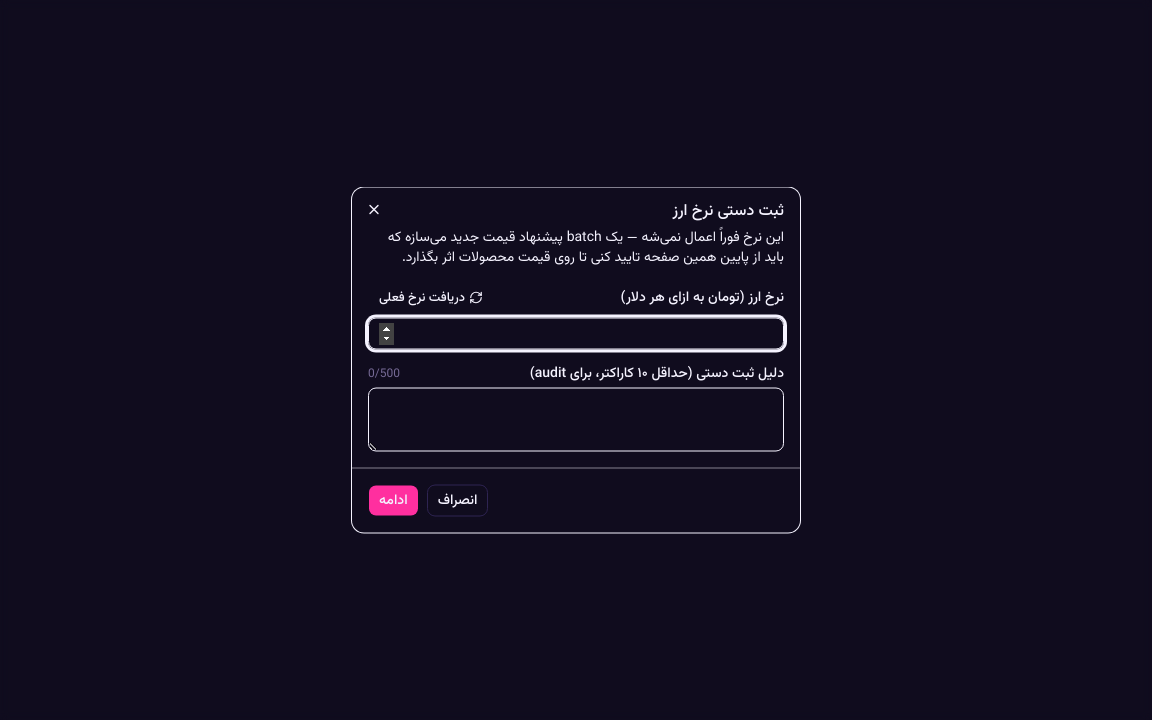
Test: ManualOverrideDialog › fetch current rate › fills rate field with current rate from API
This screenshot has width=1152, height=720.
Click the button "دریافت نرخ فعلی" at (431, 298), box [368, 284, 494, 312]
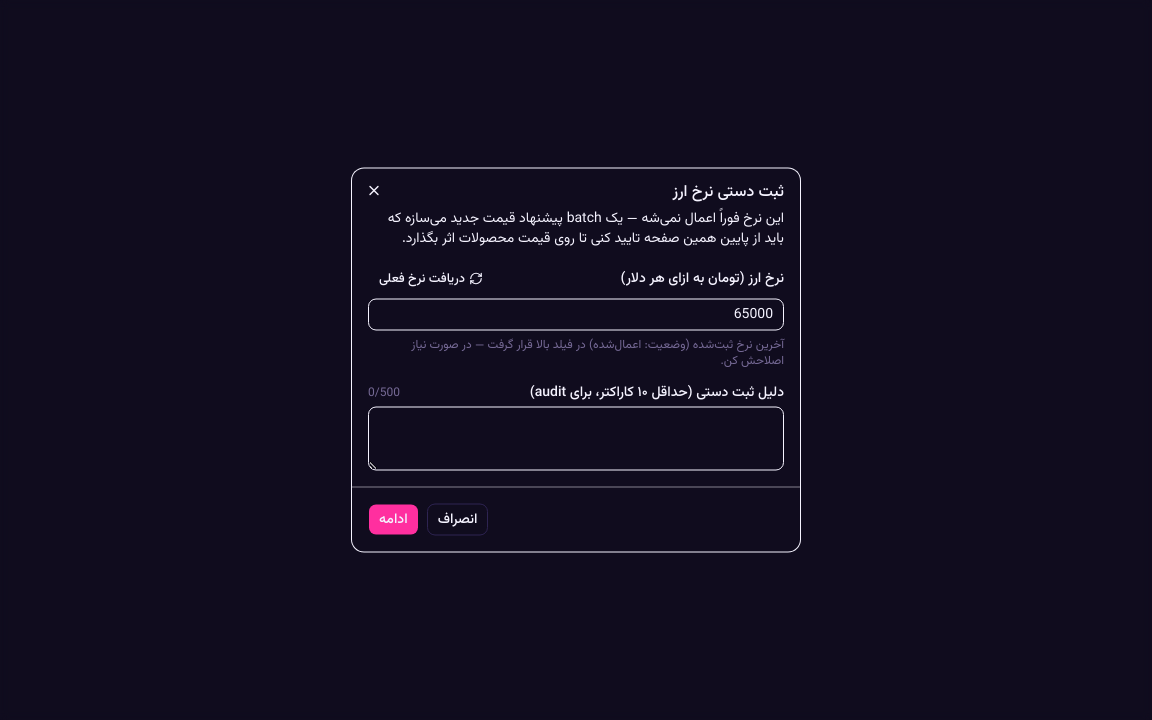
Check: the number field holds "65000", box [368, 298, 784, 330]
